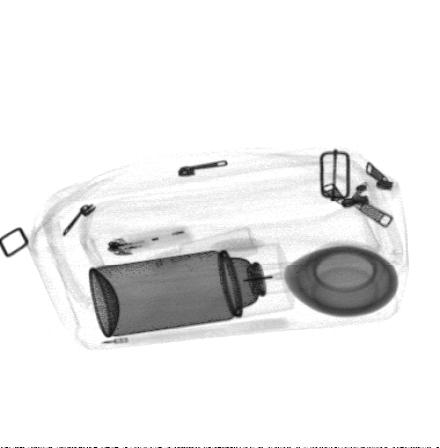Lighter: (106, 224, 195, 257)
Sprayer: (90, 243, 296, 340)
